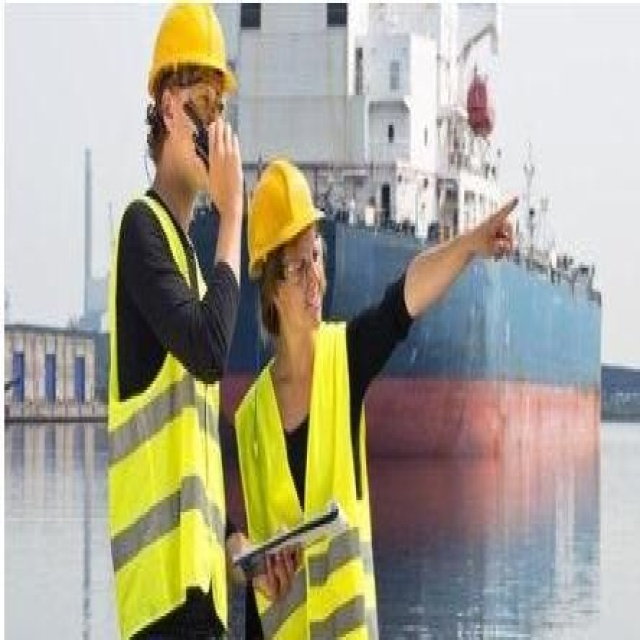Helmet: (138, 1, 253, 211), (246, 136, 337, 365)
Reflective vest: (102, 190, 235, 640), (235, 313, 382, 640)
